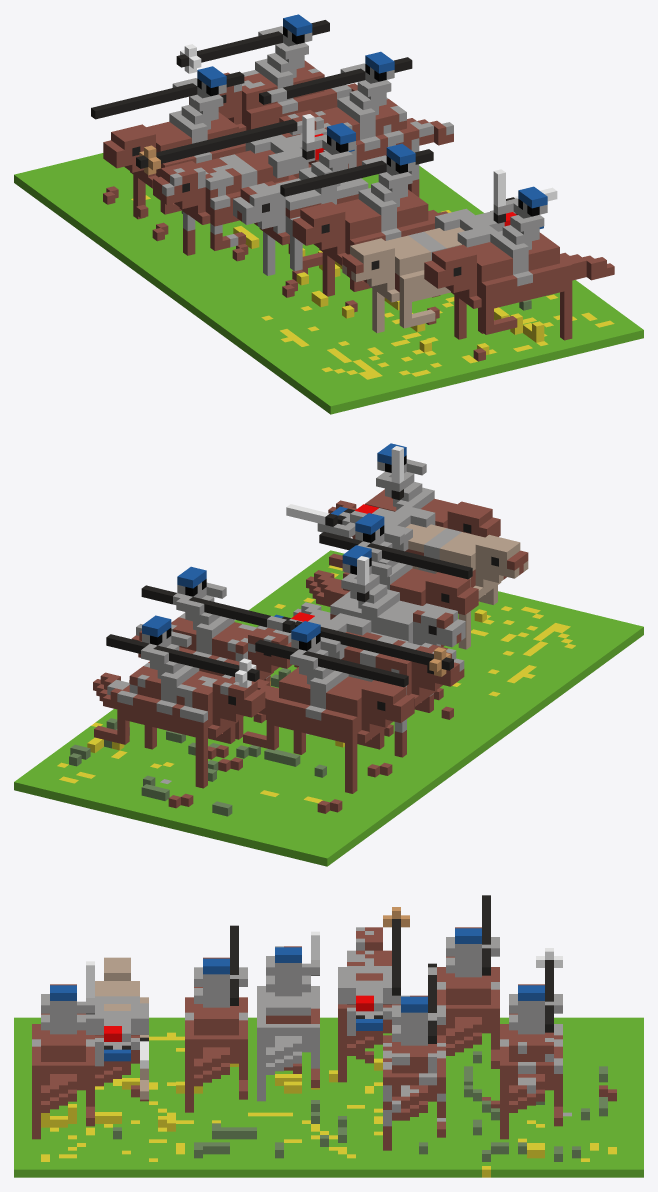
File: tartar_engage_cossacks-0.obj
The picture shows the model from 3 angles, top to bottom: view 1: azimuth 30°, elevation 25°; view 2: azimuth 150°, elevation 25°; view 3: azimuth 270°, elevation 25°; orthographic projection.
Bounding box in the file's own units: 4 × 2 × 7.
1 material, 1 textured.
